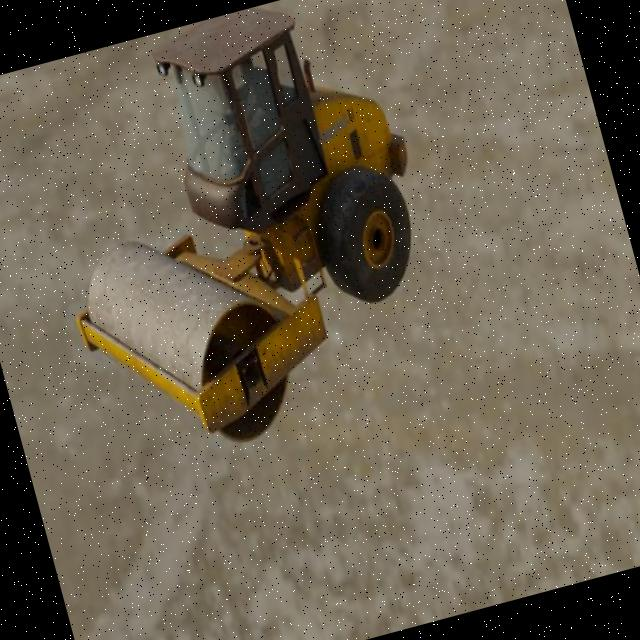Roller: (8, 0, 468, 476)
